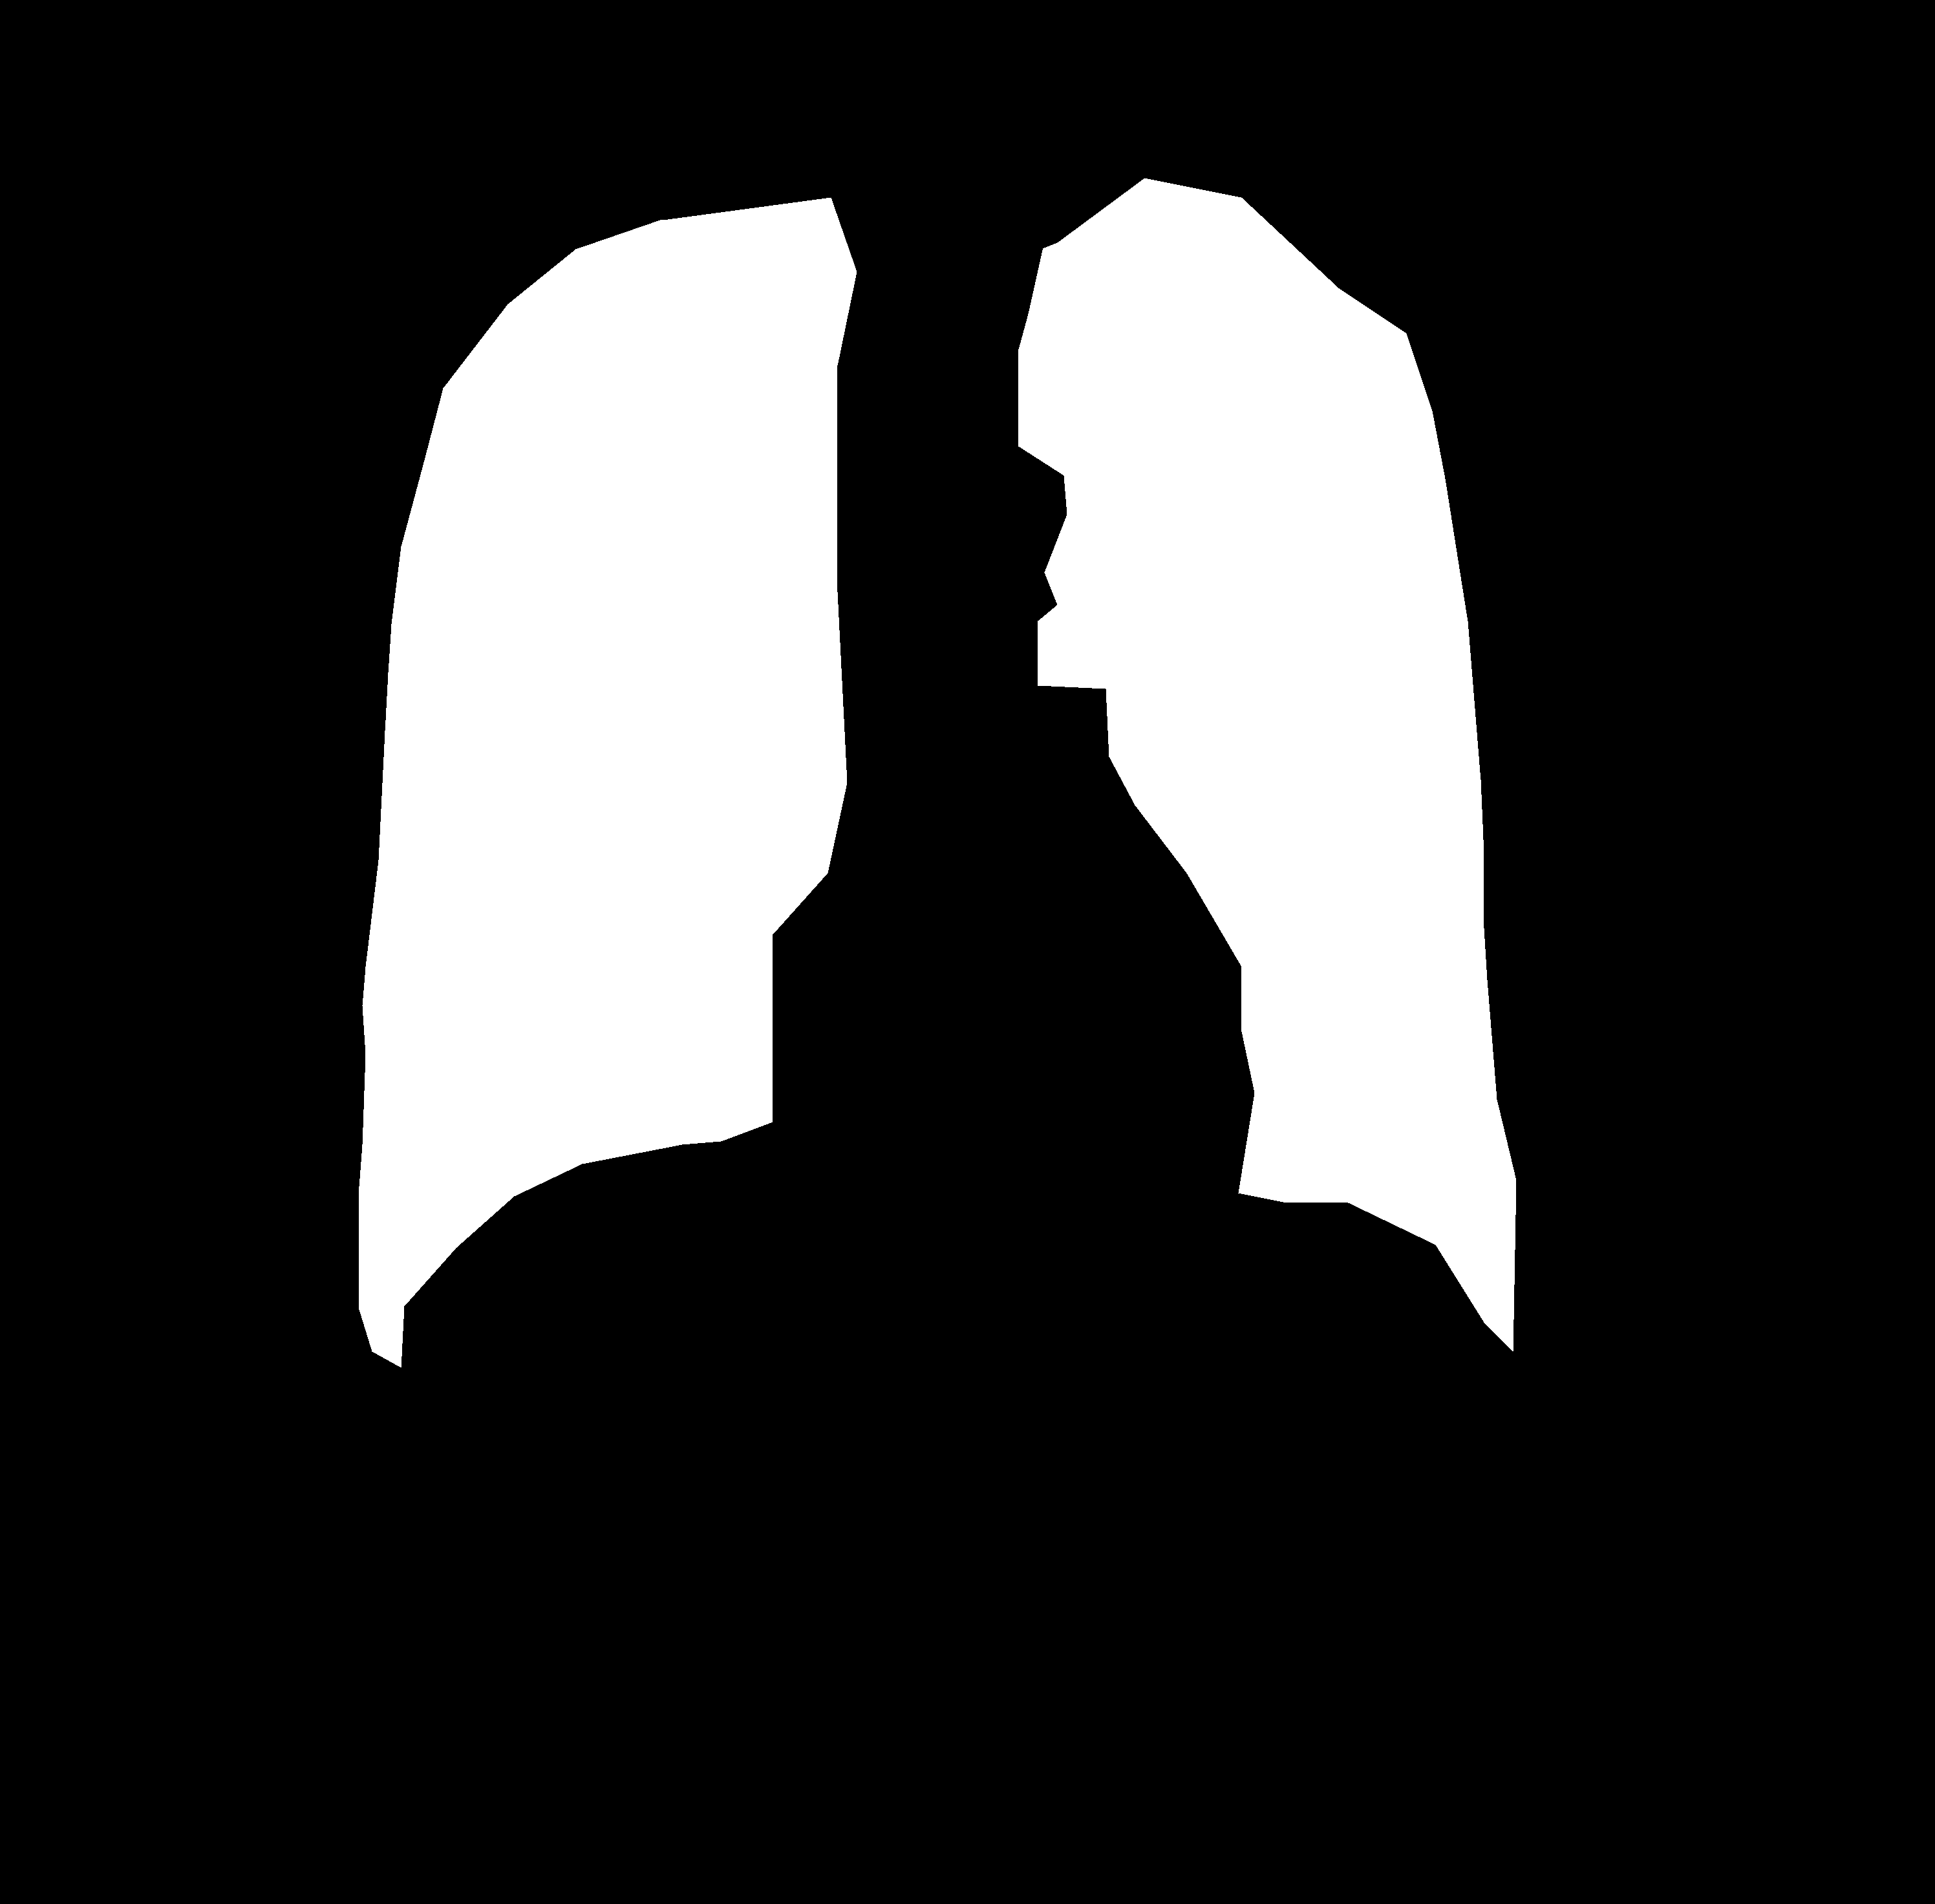heart: (748, 806, 1248, 1247)
left_lung: (359, 197, 856, 1367)
right_lung: (1018, 178, 1517, 1351)
